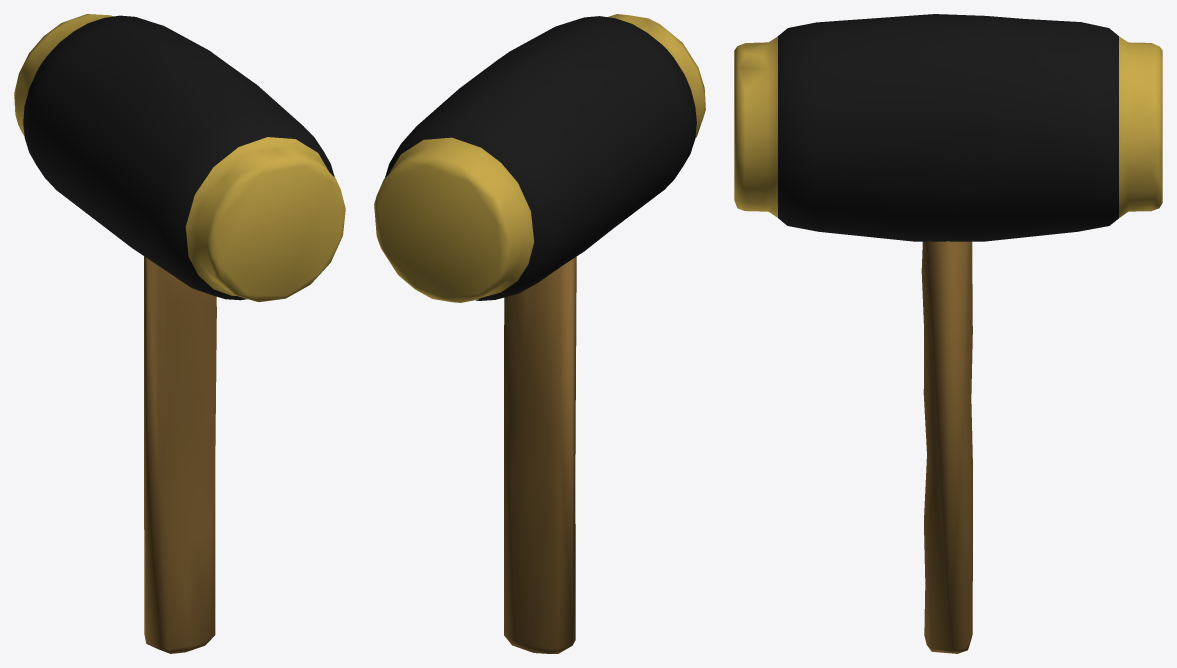
The model's file is mallet.glb.
3 renders of one model, left to right at view 1: azimuth 30°, elevation 25°; view 2: azimuth 150°, elevation 25°; view 3: azimuth 270°, elevation 25°, orthographic. The views are drawn at different scales.
Parts seen in each view (by area): view 1: Cube.017; view 2: Cube.017; view 3: Cube.017.
Part boxes in pixels (x1,y1,x2,y2): Cube.017: [14, 14, 345, 653]; Cube.017: [374, 14, 705, 653]; Cube.017: [734, 14, 1162, 653].
Size of the model in its own units: 0.1559 by 0.5112 by 0.3179.
